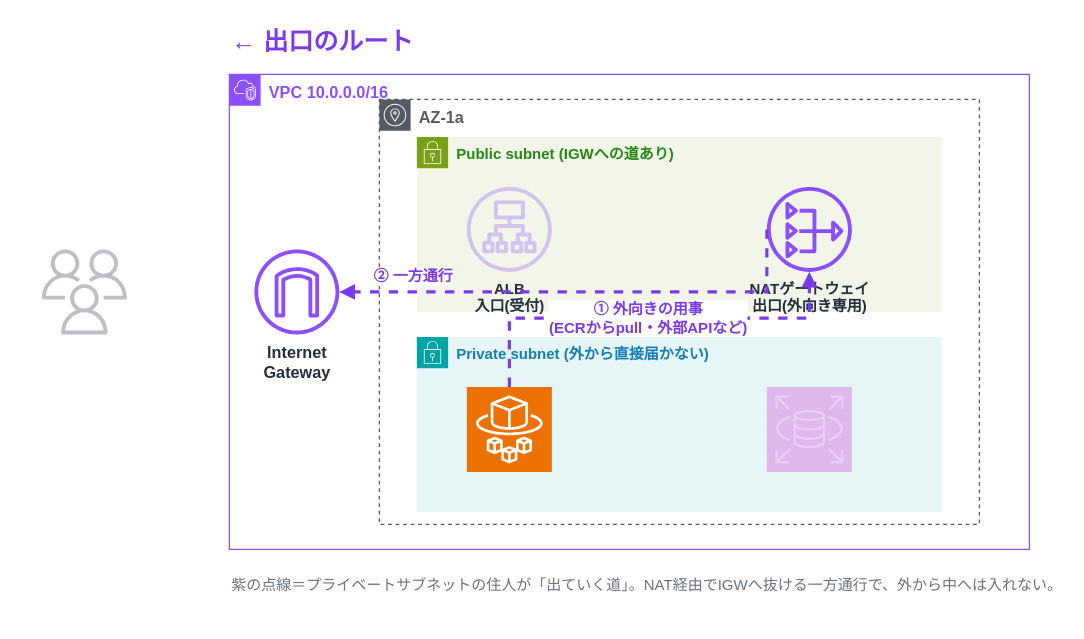
Image size: 1084x639. Some labels were removed from this diagram. Here are the shapes that lost their labels. From the top down, the centre of each, then its label:
At (83,291): "ユーザー (インターネット)".
At (509,429): "ECSタスク Next.jsコンテナ".
At (809,429): "RDS PostgreSQL".
